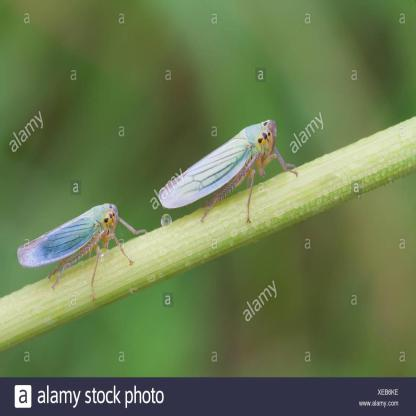Green-Leafhopper: (154, 115, 300, 231), (14, 199, 149, 299)
